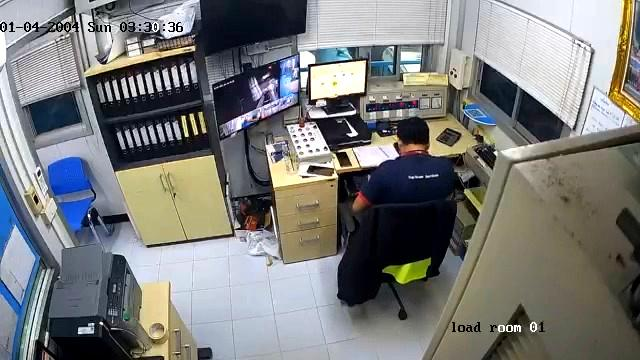Head: (396, 118, 430, 152)
People: (354, 118, 458, 206)
Phone: (306, 164, 335, 177), (335, 152, 352, 167)
